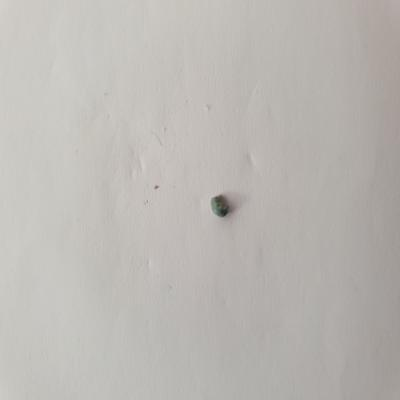plastic: (209, 189, 236, 222)
